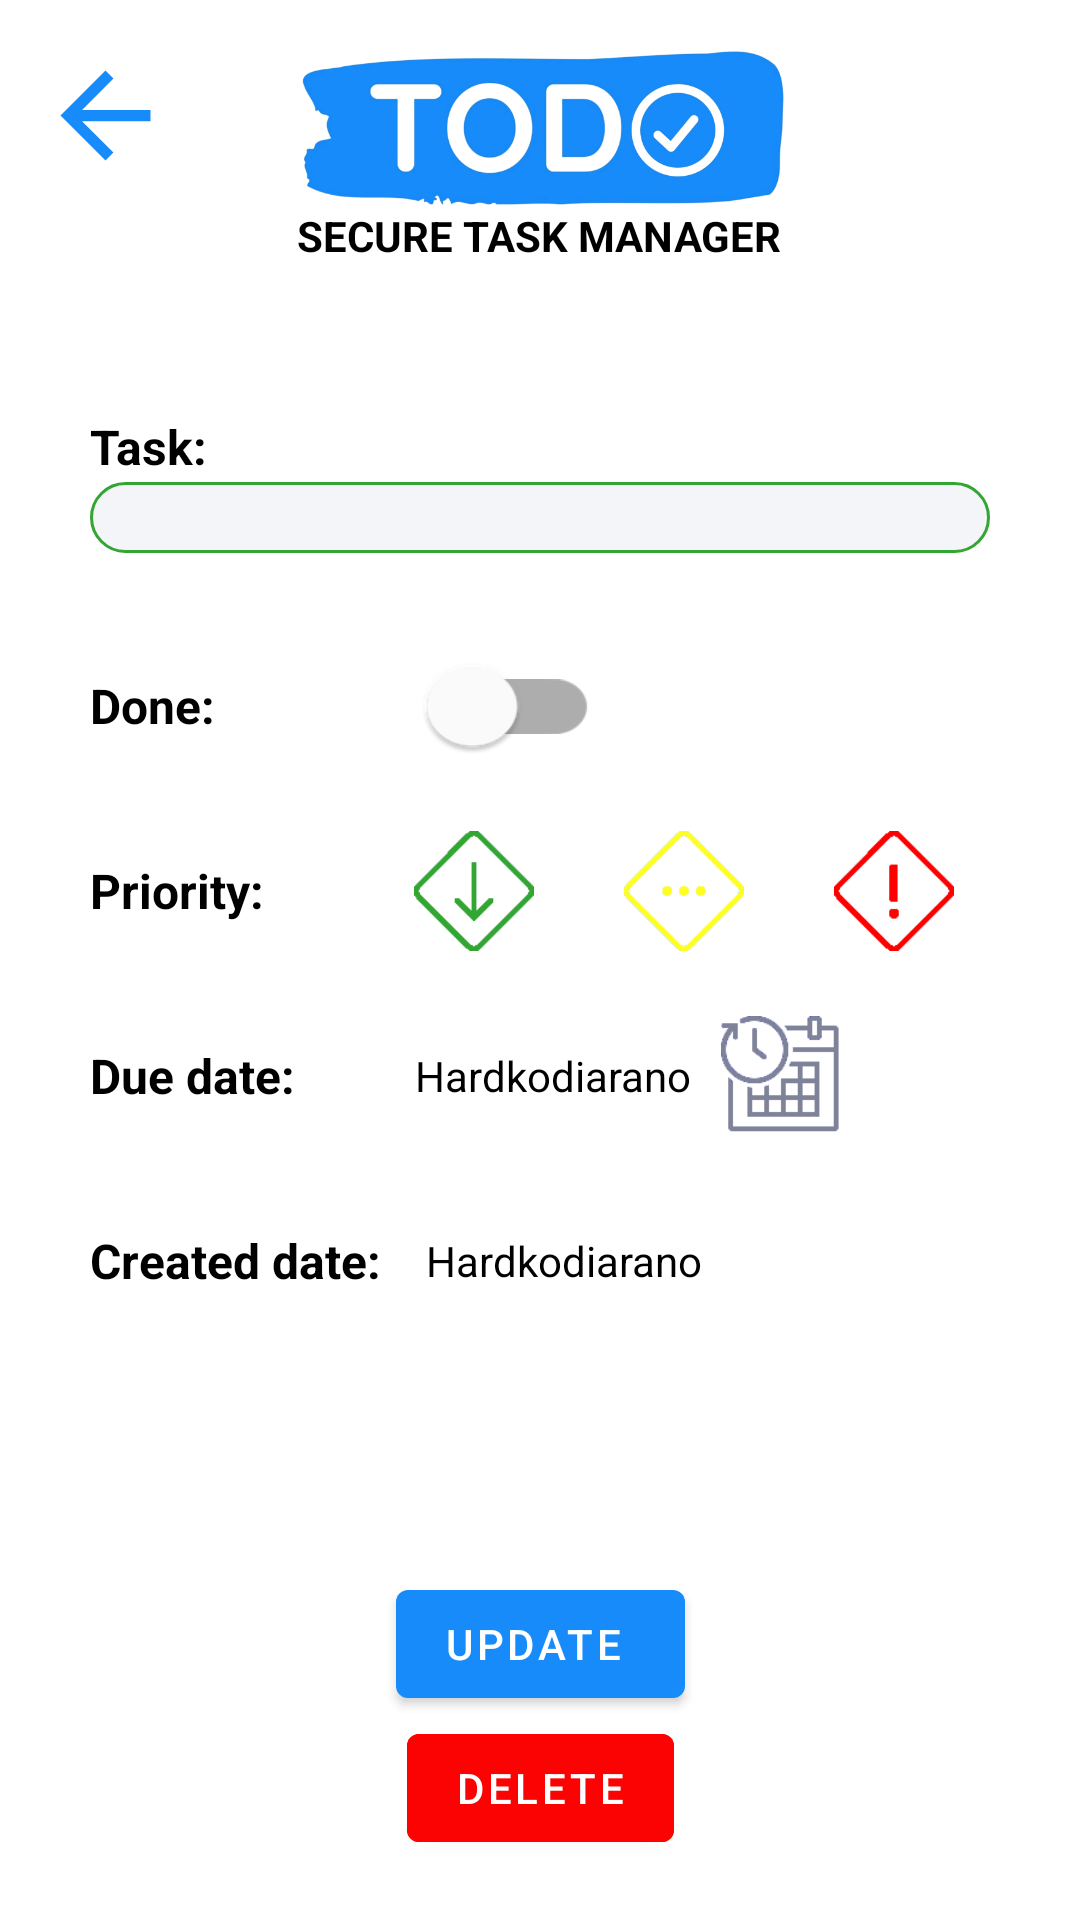

Named icons in this screenshot (1080*1920) and their centers, (x,y):
arrow back: (105,115)
high priority: (894,891)
med priority: (684,891)
schedule: (780,1074)
